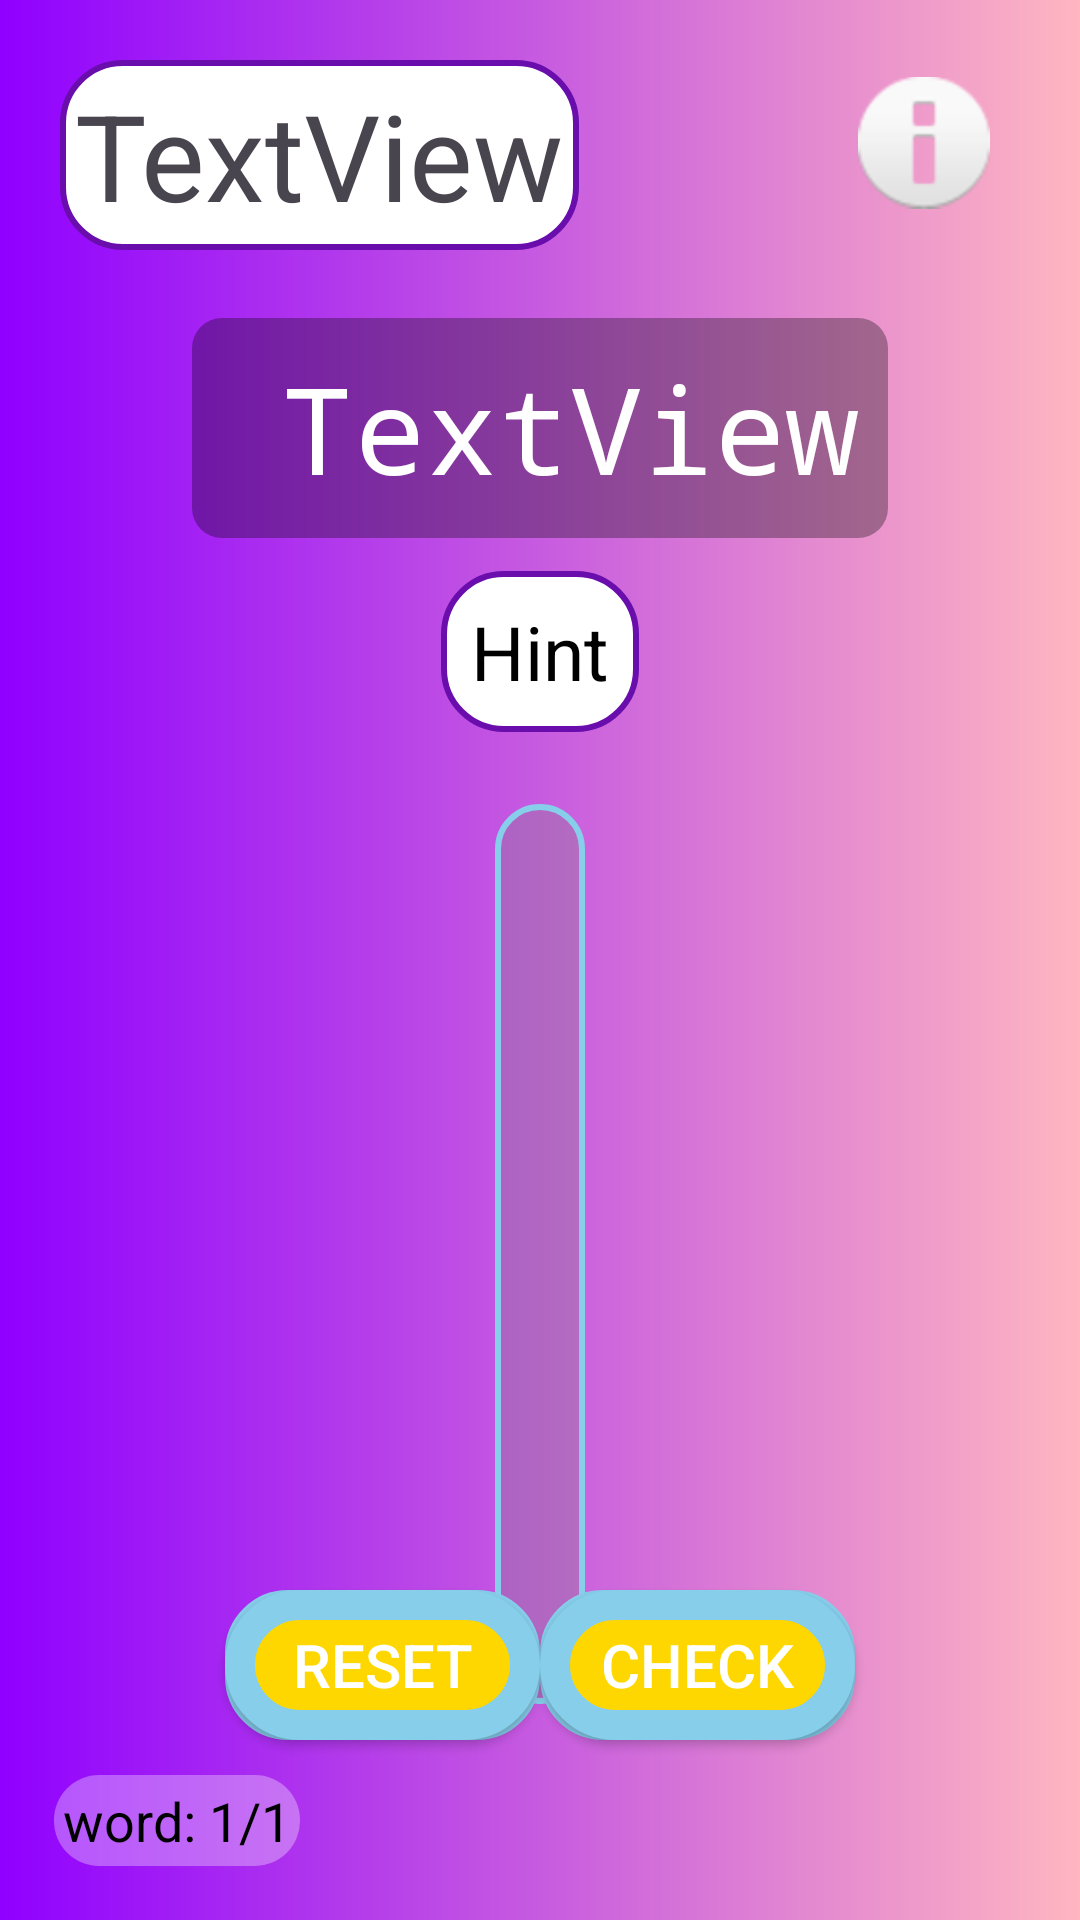

Point at icon controls on the screen. Image size 1080×1920, points as point (x, y).
info: point (924, 143)
